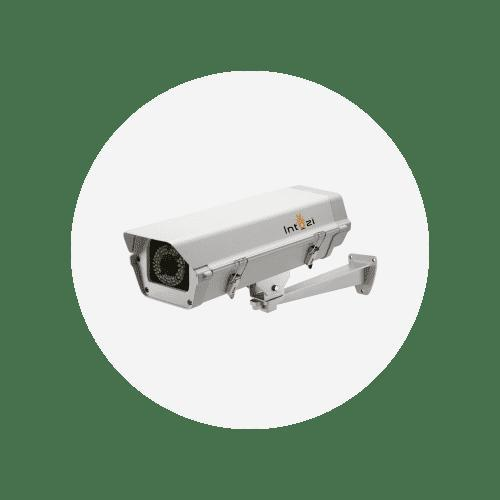Monitor: (122, 183, 377, 312)
